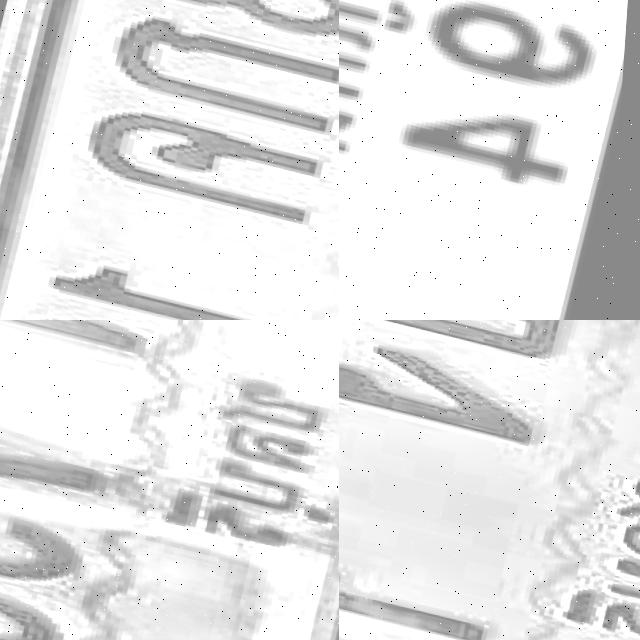license-plate: (0, 0, 339, 320), (0, 320, 339, 640), (339, 0, 640, 320), (339, 320, 640, 640)
